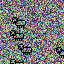sheep: (12, 16, 27, 29), (10, 30, 25, 42), (18, 44, 32, 56), (55, 47, 64, 58), (10, 59, 24, 64)
